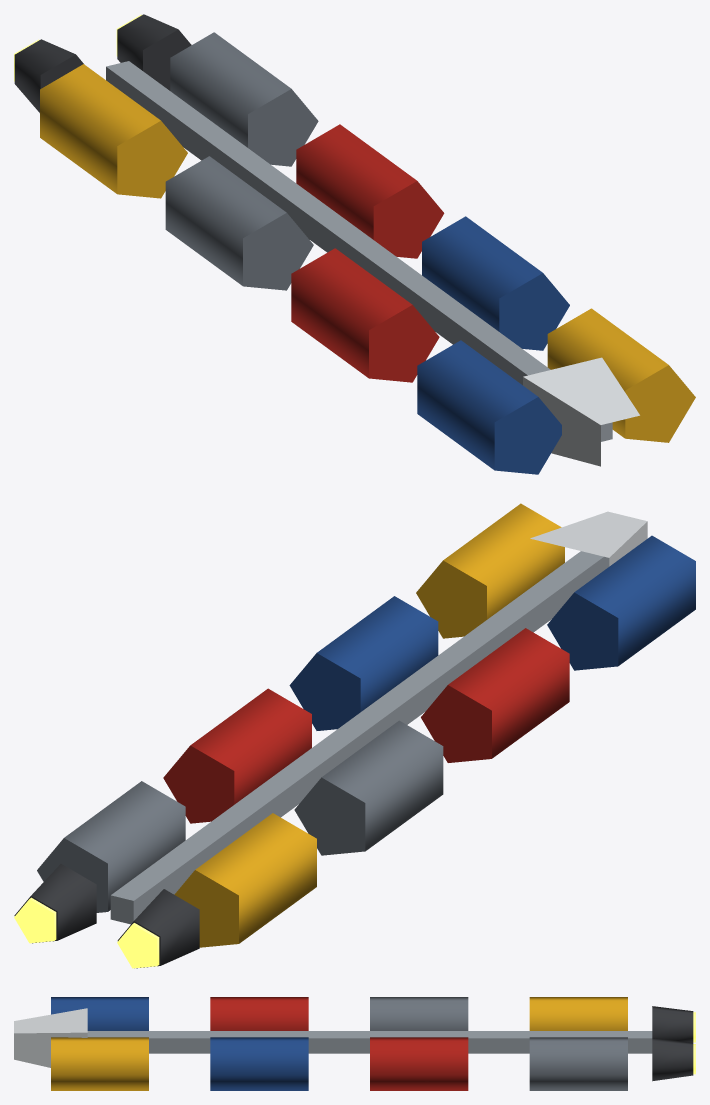
Rendered from space_ship_logistics_mk2_lod1.glb.
3 renders of one model, top to bottom at view 1: azimuth 30°, elevation 25°; view 2: azimuth 150°, elevation 25°; view 3: azimuth 270°, elevation 25°, orthographic. The views are drawn at different scales.
Parts seen in each view (by area): view 1: body, pod_1_0, pod_2_0, pod_3_0, pod_0_0, pod_0_1, pod_1_1, pod_2_1, pod_3_1, engine_0, engine_1; view 2: body, pod_1_0, pod_2_0, pod_3_0, pod_0_0, pod_2_1, pod_1_1, pod_3_1, pod_0_1, engine_0, engine_1; view 3: body, pod_0_1, pod_1_1, pod_2_1, pod_3_1, pod_0_0, pod_1_0, pod_2_0, pod_3_0, engine_0, engine_1.
Boxes of the visible parts, x1,y1,x2,y2 form: body: (106,61,639,466); pod_1_0: (165,156,313,290); pod_2_0: (291,248,439,382); pod_3_0: (417,340,561,474); pod_0_0: (40,64,187,198); pod_0_1: (170,32,318,166); pod_1_1: (296,124,444,258); pod_2_1: (422,216,569,350); pod_3_1: (547,308,695,442); engine_0: (116,14,191,90); engine_1: (14,39,83,112); body: (110,511,647,924); pod_1_0: (294,720,443,855); pod_2_0: (421,628,569,762); pod_3_0: (547,535,695,670); pod_0_0: (174,813,316,947); pod_2_1: (289,596,438,730); pod_1_1: (163,688,311,823); pod_3_1: (416,503,564,638); pod_0_1: (37,781,185,912); engine_0: (14,864,96,943); engine_1: (117,889,199,968); body: (14,1008,652,1067); pod_0_1: (529,1037,627,1090); pod_1_1: (370,1037,468,1090); pod_2_1: (210,1037,308,1090); pod_3_1: (51,1037,148,1090); pod_0_0: (529,997,627,1030); pod_1_0: (370,997,468,1030); pod_2_0: (210,997,308,1030); pod_3_0: (51,997,148,1030); engine_0: (652,1038,695,1081); engine_1: (652,1006,695,1042).
Size of the model in its own units: 7 by 2.59 by 32.35.
